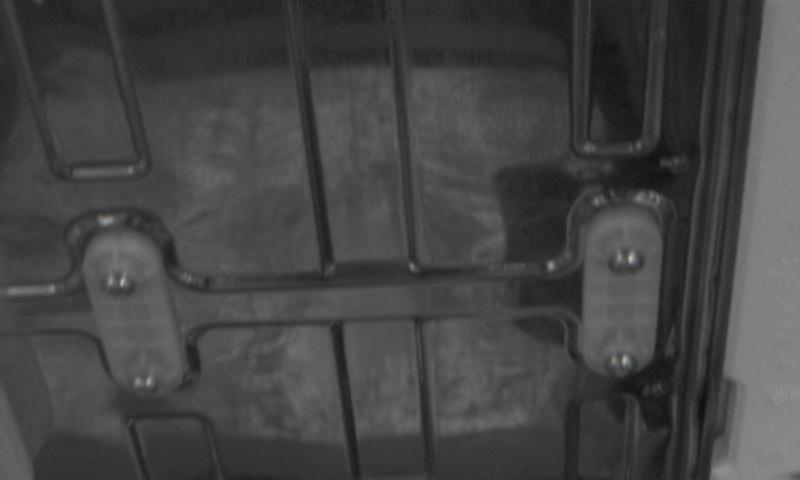vida-ok: (605, 237, 648, 282), (100, 263, 140, 308), (122, 365, 164, 405), (602, 342, 642, 380)
